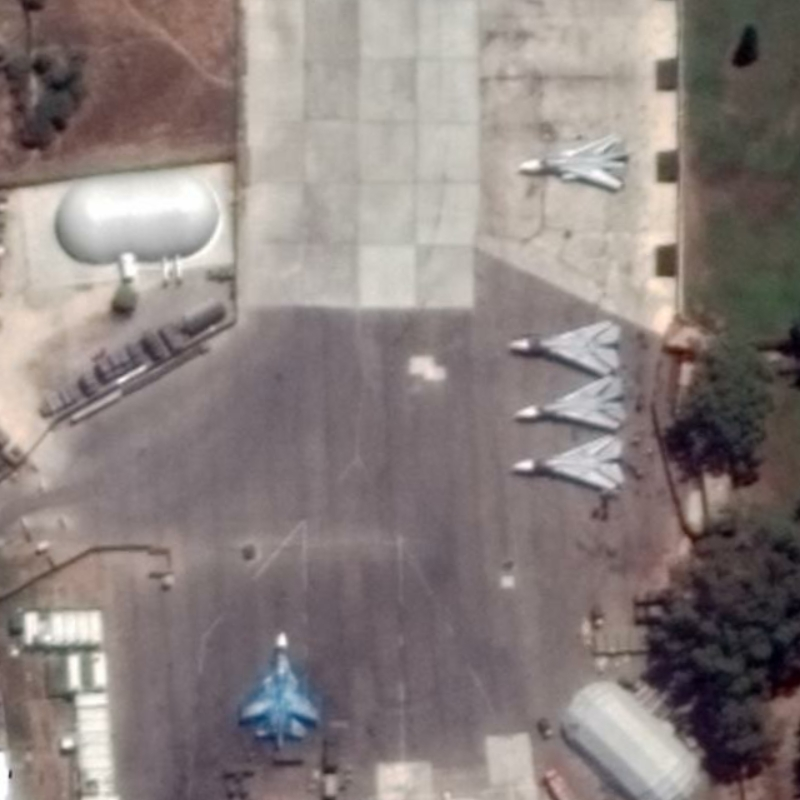A19: (236, 628, 326, 751)
A20: (516, 131, 632, 194), (509, 432, 627, 492), (512, 373, 629, 432), (506, 317, 623, 375)
